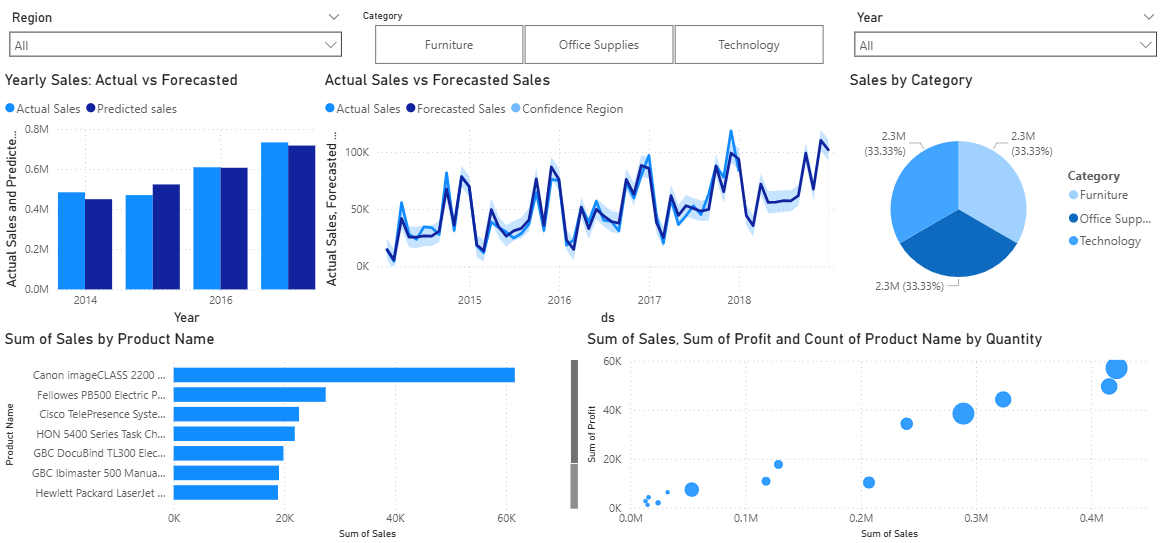

The dashboard page shown, as its layout file describes it:
{"tool":"powerbi","page":{"name":"Page 1","canvas":[1280,720],"ordinal":0},"visuals":[{"type":"lineChart","title":"Actual Sales vs Forecasted Sales","fields":{"Category":["forecast_results.ds"],"Y":["Avg(MonthlyActuals.Total Sales)","Avg(forecast_results.yhat)","Avg(forecast_results.yhat_upper)","Avg(forecast_results.yhat_lower)"]},"box":[351.3,200.3,576.3,284],"z":0},{"type":"clusteredColumnChart","title":"Yearly Sales: Actual vs Forecasted","fields":{"Category":["MonthlyActuals.Year"],"Y":["Sum(MonthlyActuals.Total Sales)","Sum(forecast_results.yhat)"]},"box":[0,200.3,351.3,284],"z":1000},{"type":"pieChart","title":"Sales by Category","fields":{"Category":["Superstore.Category"],"Y":["Sum(MonthlyActuals.Total Sales)"]},"box":[927.6,200.3,352.7,284],"z":2000},{"type":"barChart","fields":{"Category":["Superstore.Product Name"],"Y":["Sum(Superstore.Sales)"]},"box":[0,484.4,639.5,236],"z":3000},{"type":"scatterChart","fields":{"Y":["Sum(Superstore.Profit)"],"X":["Sum(Superstore.Sales)"],"Category":["Superstore.Quantity"],"Size":["CountNonNull(Superstore.Product Name)"]},"box":[639.5,484.4,640.8,236],"z":4000},{"type":"cardVisual","fields":{"Data":["Sum(Superstore.Sales)"]},"box":[0,0,256.6,129],"z":5000},{"type":"cardVisual","fields":{"Data":["Sum(forecast_results.yhat)"]},"box":[256.6,0,256.6,129],"z":6000},{"type":"cardVisual","fields":{"Data":["Sum(forecast_results.yhat)"]},"box":[513.2,0,256.6,129],"z":7000},{"type":"cardVisual","fields":{"Data":["MonthlyActuals.LowestMonthName","MonthlyActuals.LowestMonth"]},"box":[768.4,0,511.8,129],"z":8000},{"type":"slicer","fields":{"Values":["Superstore.Region"]},"box":[0,129,385.6,71.4],"z":9000},{"type":"slicer","fields":{"Values":["Superstore.Category"]},"box":[385.6,129,542,71.4],"z":9001},{"type":"slicer","fields":{"Values":["forecast_results.Year"]},"box":[927.6,129,352.7,71.4],"z":9002}]}

Visuals, with their boxes on the page's 1280x720 design canvas (x1, y1, x2, y2). These are canvas units, not pixel positions in the 1165x543 screenshot, which may show the page scaled, cropped or inside an application window:
"Actual Sales vs Forecasted Sales" lineChart: [left=351, top=200, right=928, bottom=484]
"Yearly Sales: Actual vs Forecasted" clusteredColumnChart: [left=0, top=200, right=351, bottom=484]
"Sales by Category" pieChart: [left=928, top=200, right=1280, bottom=484]
barChart - Superstore.Product Name x Sum(Superstore.Sales): [left=0, top=484, right=640, bottom=720]
scatterChart - Sum(Superstore.Profit) x Sum(Superstore.Sales): [left=640, top=484, right=1280, bottom=720]
cardVisual - Sum(Superstore.Sales): [left=0, top=0, right=257, bottom=129]
cardVisual - Sum(forecast_results.yhat): [left=257, top=0, right=513, bottom=129]
cardVisual - Sum(forecast_results.yhat): [left=513, top=0, right=770, bottom=129]
cardVisual - MonthlyActuals.LowestMonthName x MonthlyActuals.LowestMonth: [left=768, top=0, right=1280, bottom=129]
slicer - Superstore.Region: [left=0, top=129, right=386, bottom=200]
slicer - Superstore.Category: [left=386, top=129, right=928, bottom=200]
slicer - forecast_results.Year: [left=928, top=129, right=1280, bottom=200]
